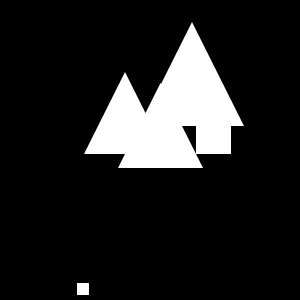circle: (196, 119, 231, 154), (77, 283, 89, 295)
triangle: (140, 22, 244, 126), (118, 83, 203, 168), (84, 72, 166, 154)
